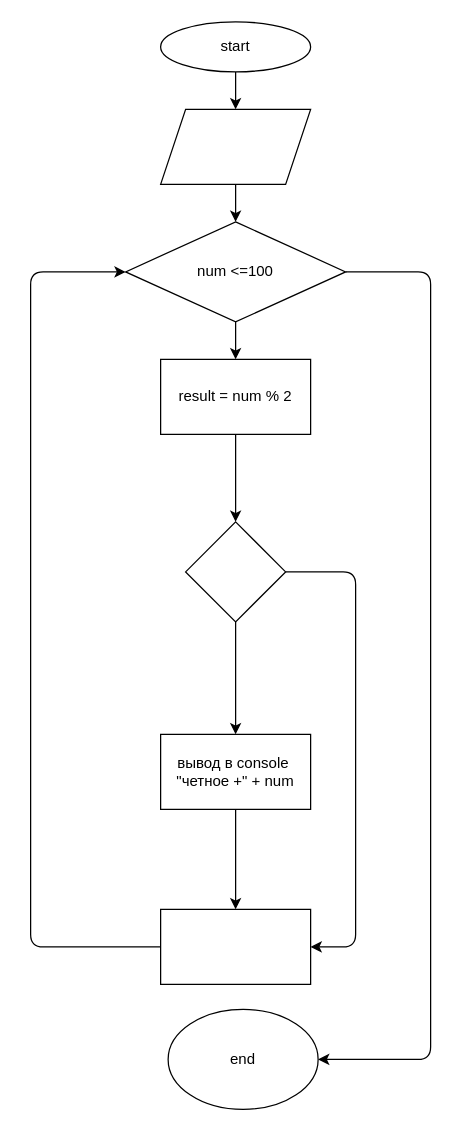
This 463x1131 diagram has some shape labels left out. Each missing label, with the centre of its shape:
"num++" goes at [235,946].
"num= 2" goes at [235,146].
"result != 1" goes at [235,571].
